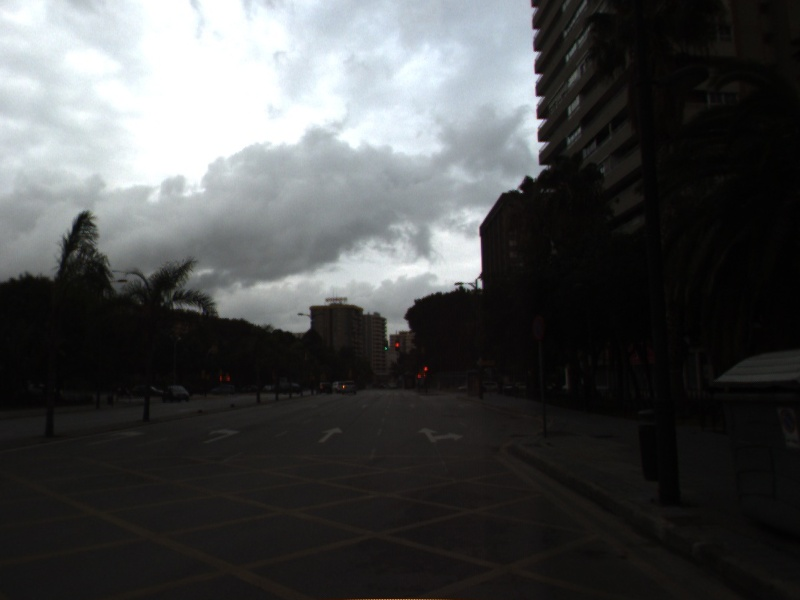LEFT: (82, 427, 148, 448), (201, 426, 243, 446)
STRAIGHT: (316, 424, 345, 445)
STRAIGHT_RIGHT: (415, 425, 466, 445)
